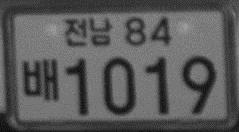0: (101, 56, 136, 115)
1: (143, 54, 170, 117), (63, 56, 90, 117)
4: (149, 16, 172, 46)
8: (124, 16, 146, 46)
9: (180, 55, 217, 115)
배: (21, 57, 60, 101)
전남_H: (62, 16, 113, 46)
